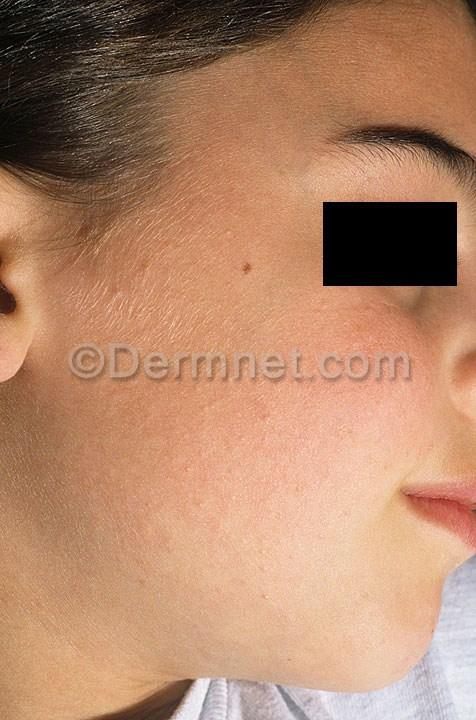edema 1: (190, 397, 275, 428)
